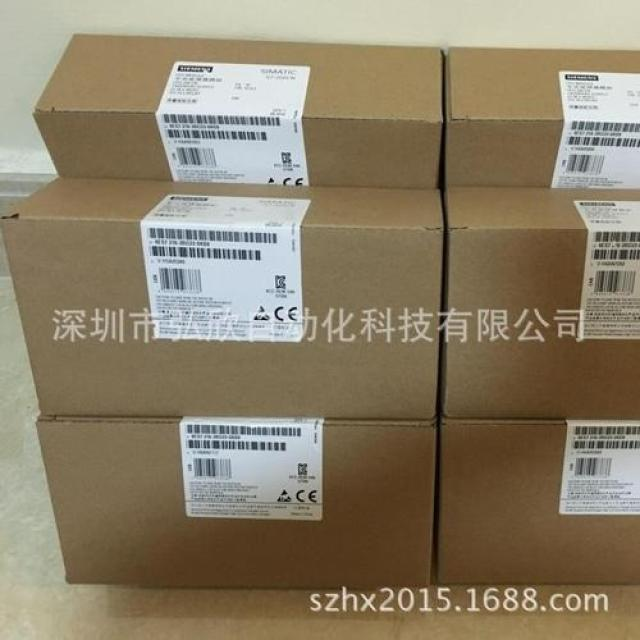box: (0, 179, 440, 416), (38, 419, 436, 588), (35, 33, 442, 187), (443, 189, 640, 420), (438, 421, 639, 585), (447, 49, 640, 188)
